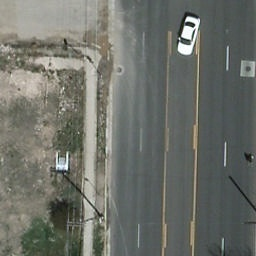car: (176, 15, 202, 57)
